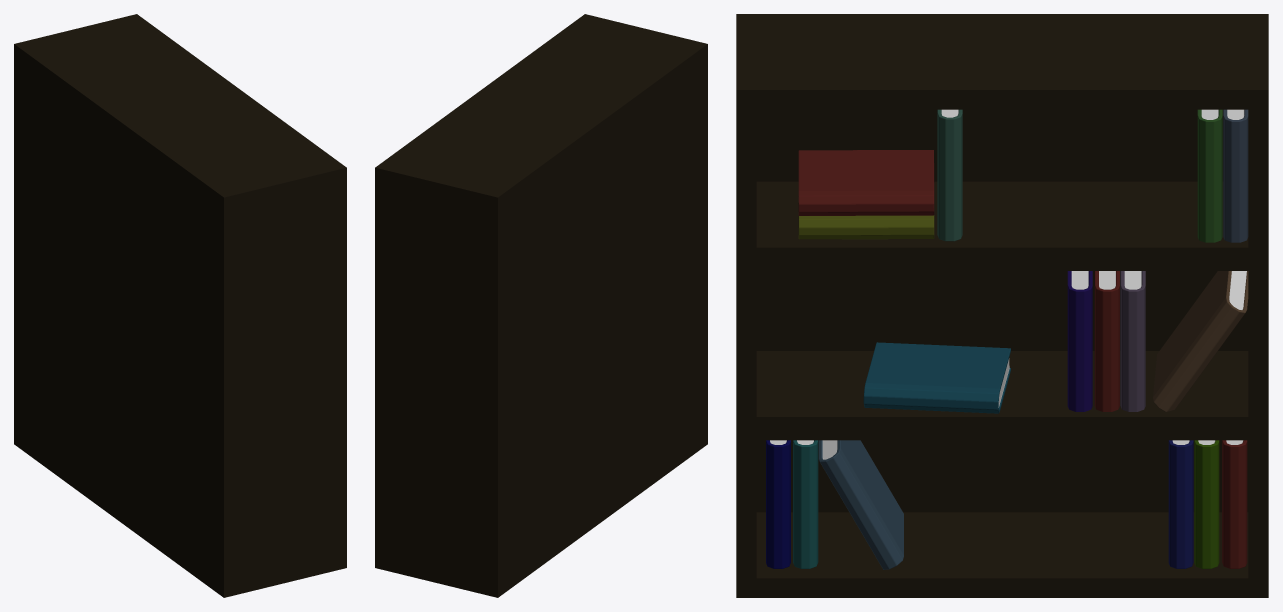
Rendered from MuebleLibros.fbx.
3 renders of one model, left to right at view 1: azimuth 30°, elevation 25°; view 2: azimuth 150°, elevation 25°; view 3: azimuth 270°, elevation 25°, orthographic. The views are drawn at different scales.
Parts seen in each view (by area): view 1: Cube; view 2: Cube; view 3: Cube, Cylinder, Cylinder.007, Cylinder.009, Cylinder.002, Cylinder.013, Cylinder.014, Cylinder.012, Cylinder.004, Cylinder.005, Cylinder.015, Cylinder.003 (+5 smaller).
Boxes of the visible parts, x1,y1,x2,y2 form: Cube: (14, 14, 346, 597); Cube: (375, 14, 707, 597); Cube: (736, 14, 1268, 597); Cylinder: (863, 342, 1010, 413); Cylinder.007: (798, 150, 934, 215); Cylinder.009: (1153, 271, 1248, 411); Cylinder.002: (818, 440, 903, 569); Cylinder.013: (1120, 271, 1145, 411); Cylinder.014: (1067, 271, 1092, 411); Cylinder.012: (1094, 271, 1119, 411); Cylinder.004: (1197, 109, 1222, 242); Cylinder.005: (1223, 109, 1248, 242); Cylinder.015: (937, 109, 962, 241); Cylinder.003: (793, 440, 818, 568).
Bounding box in the file's own units: 202 × 623 × 592.
